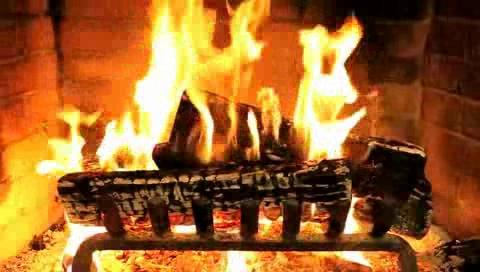fire: (111, 1, 366, 173)
